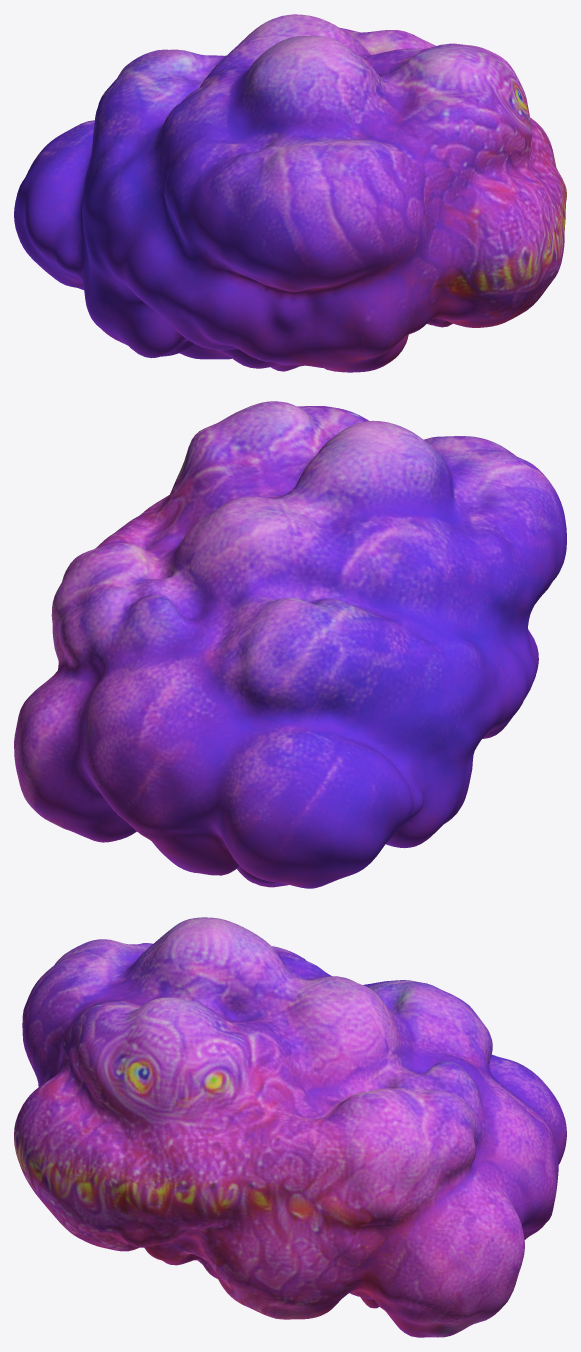
Rendered from cloud_monster_purple.glb.
3 renders of one model, top to bottom at view 1: azimuth 30°, elevation 25°; view 2: azimuth 150°, elevation 25°; view 3: azimuth 270°, elevation 25°, orthographic. The views are drawn at different scales.
Visible parts, largest first — view 1: Mesh1; view 2: Mesh1; view 3: Mesh1.
Boxes of the visible parts, x1=… form: Mesh1: x1=14, y1=14, x2=566, y2=372; Mesh1: x1=14, y1=401, x2=566, y2=888; Mesh1: x1=14, y1=917, x2=566, y2=1337.
Size of the model in its own units: 0.9548 by 0.878 by 1.2.
1 material, 1 textured.
